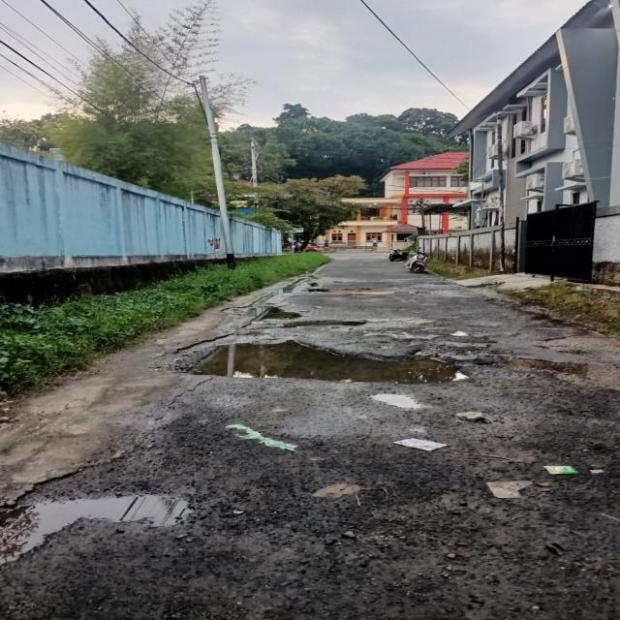lubang: (0, 494, 192, 566), (180, 340, 459, 384), (504, 300, 601, 352), (473, 356, 619, 390), (259, 306, 365, 328), (434, 331, 501, 364), (284, 278, 395, 295), (467, 281, 511, 291)
